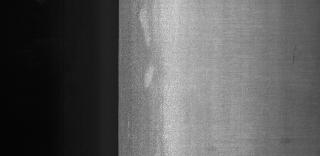water spot: (284, 43, 302, 68)
